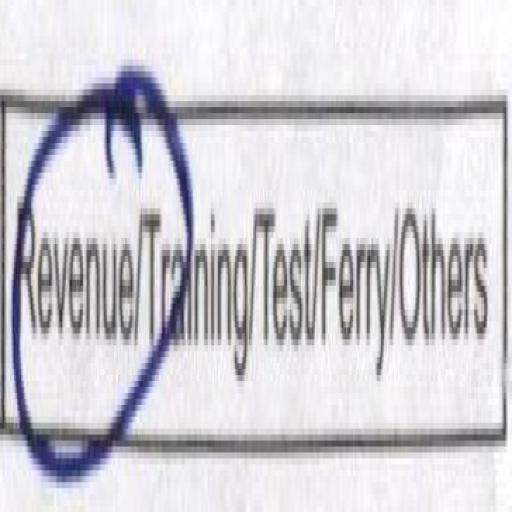check: (0, 8, 138, 512)
